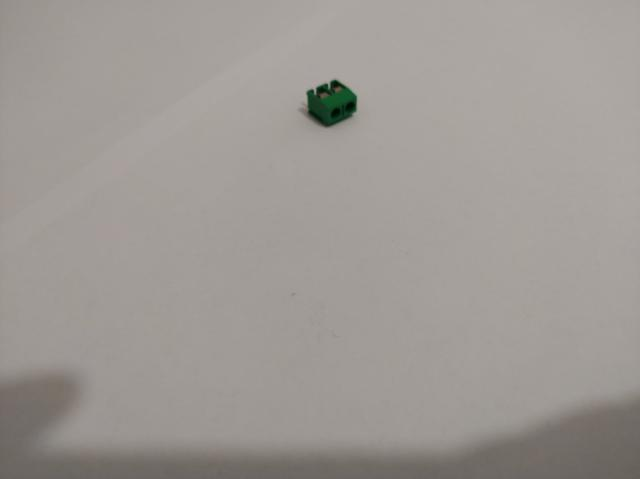terminal_block: (306, 79, 356, 125)
